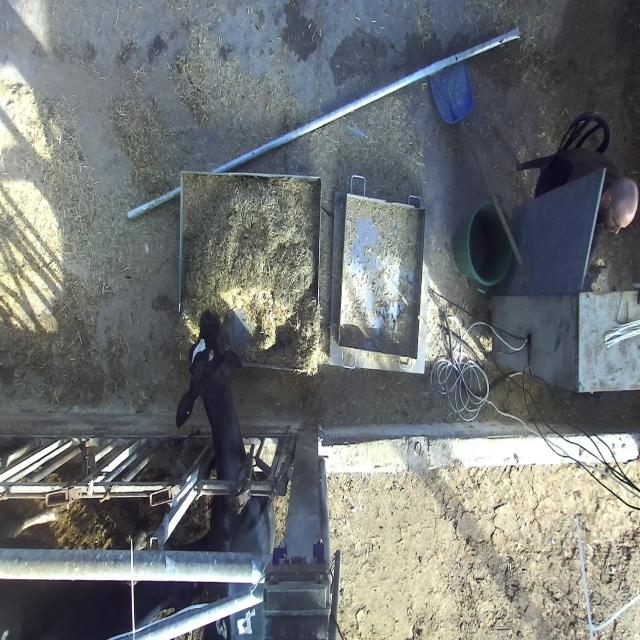cow: (175, 315, 244, 434)
